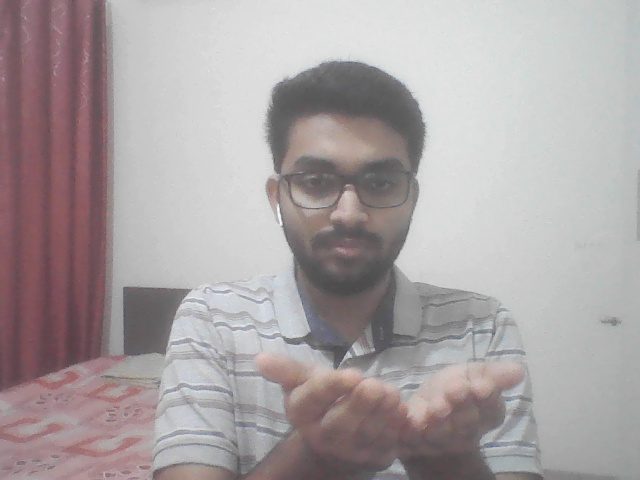book: (229, 333, 549, 468)
